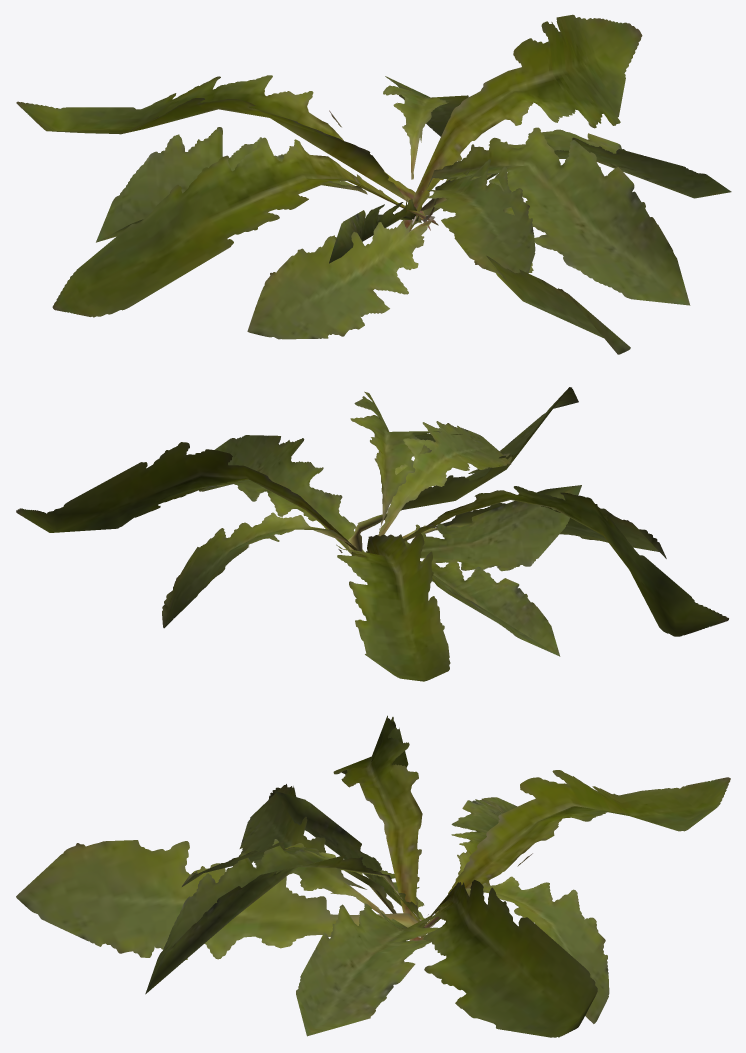
The picture shows the model from 3 angles, top to bottom: view 1: azimuth 30°, elevation 25°; view 2: azimuth 150°, elevation 25°; view 3: azimuth 270°, elevation 25°; orthographic projection. The views are drawn at different scales.
Visible parts, largest first — view 1: dandelion_01__e_lod1; view 2: dandelion_01__e_lod1; view 3: dandelion_01__e_lod1.
Part boxes in pixels (x1=…): dandelion_01__e_lod1: x1=16, y1=14, x2=731, y2=354; dandelion_01__e_lod1: x1=16, y1=387, x2=728, y2=681; dandelion_01__e_lod1: x1=16, y1=715, x2=730, y2=1037.
Bounding box in the file's own units: 0.2207 × 0.0495 × 0.2119.
1 material, 1 textured.
